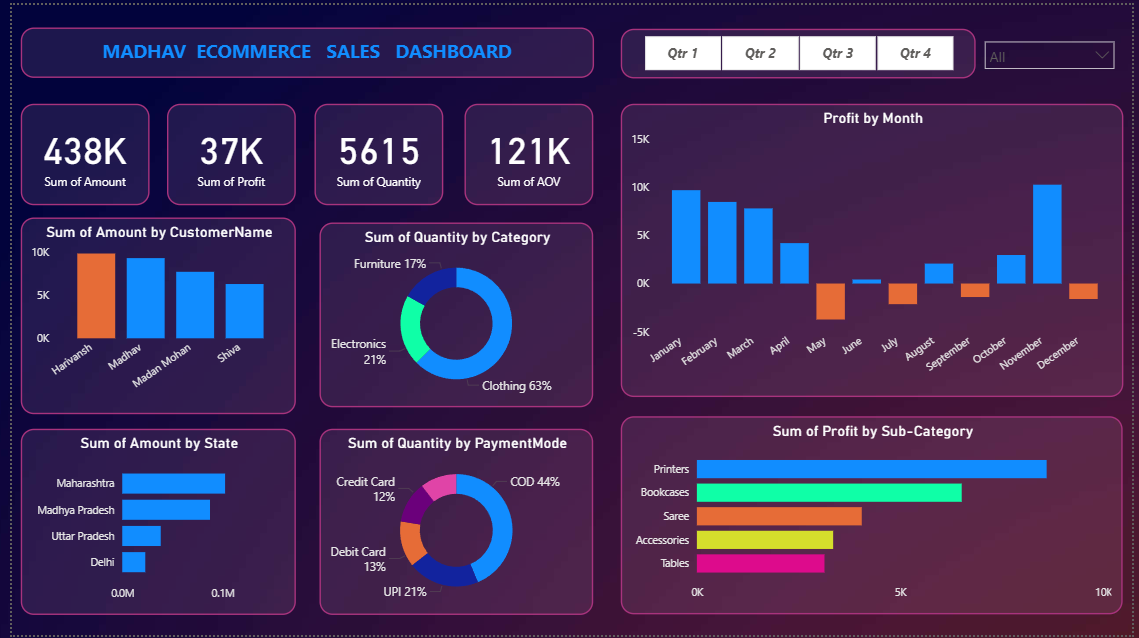

The page's visual inventory and layout, read from the dashboard file:
{"tool":"powerbi","page":{"name":"Page 1","canvas":[1280,720],"ordinal":0},"visuals":[{"type":"textbox","box":[9.4,25.6,655,57.9],"z":0},{"type":"columnChart","title":"Profit by Month","fields":{"Category":["Orders.Order Date.Variation.Date Hierarchy.Month"],"Y":["Sum(Details.Profit)"]},"box":[695.4,113.2,574.1,335.6],"z":1000},{"type":"barChart","fields":{"Category":["Details.Sub-Category"],"Y":["Sum(Details.Profit)"]},"box":[696,469.8,573.5,226.2],"z":2000},{"type":"donutChart","fields":{"Category":["Details.Category"],"Y":["Sum(Details.Quantity)"]},"box":[351.7,248,312.7,211.6],"z":3000},{"type":"donutChart","fields":{"Category":["Details.PaymentMode"],"Y":["Sum(Details.Quantity)"]},"box":[351.7,483.8,312.7,212.9],"z":4000},{"type":"card","fields":{"Values":["Sum(Details.Amount)"]},"box":[9.4,113.2,146.9,115.9],"z":5000},{"type":"card","fields":{"Values":["Sum(Details.Quantity)"]},"box":[346.3,113.2,146.9,115.9],"z":6000},{"type":"card","fields":{"Values":["Sum(Details.Profit)"]},"box":[176.5,113.2,146.9,115.9],"z":7000},{"type":"card","fields":{"Values":["Sum(Details.AOV)"]},"box":[517.5,113.2,146.9,115.9],"z":8000},{"type":"barChart","fields":{"Category":["Orders.State"],"Y":["Sum(Details.Amount)"]},"box":[9.4,483.8,314,212.9],"z":9000},{"type":"columnChart","fields":{"Category":["Orders.CustomerName"],"Y":["Sum(Details.Amount)"]},"box":[9.4,242.6,314,225.1],"z":10000},{"type":"slicer","fields":{"Values":["Orders.Order Date.Variation.Date Hierarchy.Quarter"]},"box":[695.4,27,405.6,56.6],"z":11000},{"type":"slicer","fields":{"Values":["Orders.State"]},"box":[1101,31,168.5,52.6],"z":12000}]}

Visuals, with their boxes in screenshot pixels (x1, y1, x2, y2), scaled from the page's 1280x720 canvas onto the 1139x638 screenshot:
textbox: bbox(8, 23, 591, 74)
"Profit by Month" columnChart: bbox(619, 100, 1130, 398)
barChart - Details.Sub-Category x Sum(Details.Profit): bbox(619, 416, 1130, 617)
donutChart - Details.Category x Sum(Details.Quantity): bbox(313, 220, 591, 407)
donutChart - Details.PaymentMode x Sum(Details.Quantity): bbox(313, 429, 591, 617)
card - Sum(Details.Amount): bbox(8, 100, 139, 203)
card - Sum(Details.Quantity): bbox(308, 100, 439, 203)
card - Sum(Details.Profit): bbox(157, 100, 288, 203)
card - Sum(Details.AOV): bbox(460, 100, 591, 203)
barChart - Orders.State x Sum(Details.Amount): bbox(8, 429, 288, 617)
columnChart - Orders.CustomerName x Sum(Details.Amount): bbox(8, 215, 288, 414)
slicer - Orders.Order Date.Variation.Date Hierarchy.Quarter: bbox(619, 24, 980, 74)
slicer - Orders.State: bbox(980, 27, 1130, 74)
